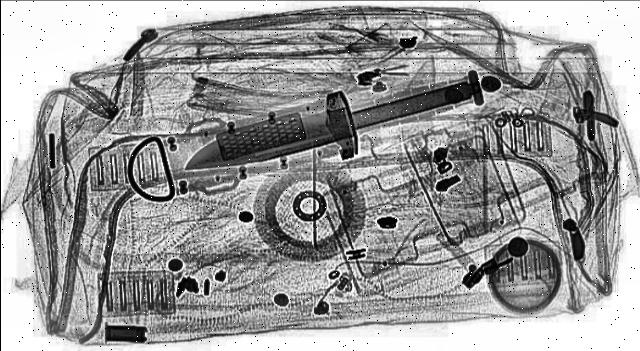Knife: (150, 52, 530, 198)
